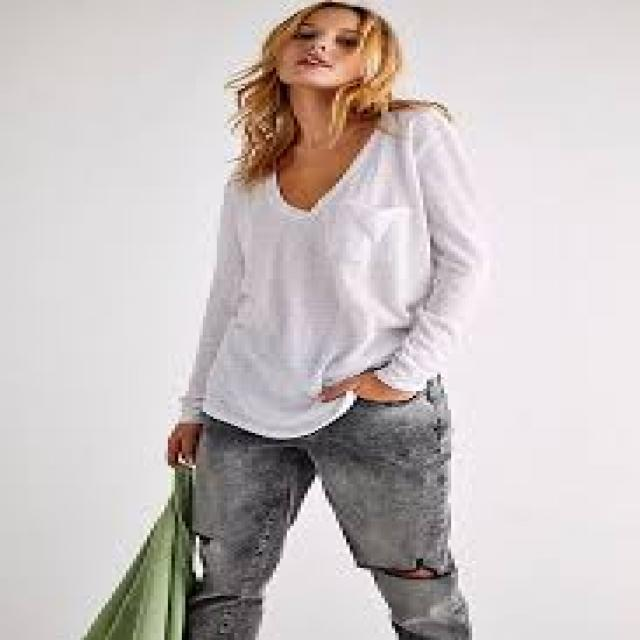plain: (90, 127, 544, 455)
